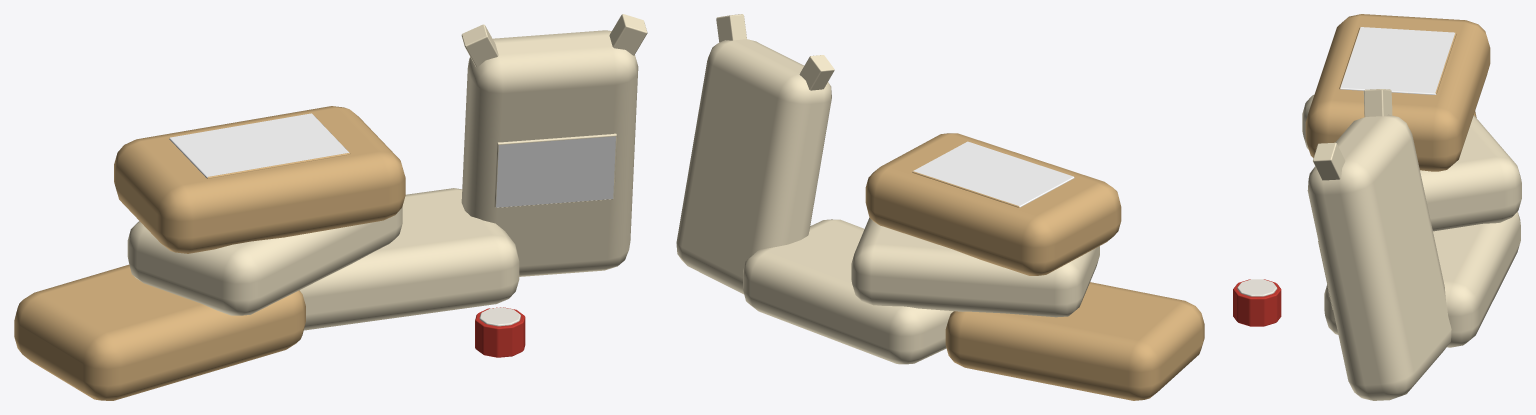
Rendered from prop_sacks.glb.
The picture shows the model from 3 angles, left to right: view 1: azimuth 30°, elevation 25°; view 2: azimuth 150°, elevation 25°; view 3: azimuth 270°, elevation 25°; orthographic projection. The views are drawn at different scales.
Visible parts, largest first — view 1: prop_sacks; view 2: prop_sacks; view 3: prop_sacks.
Part boxes in pixels (x1,y1,x2,y2): prop_sacks: (14,14,647,400); prop_sacks: (676,14,1204,400); prop_sacks: (1233,14,1521,400).
Bounding box in the file's own units: 1.79 × 0.8014 × 0.8211.
